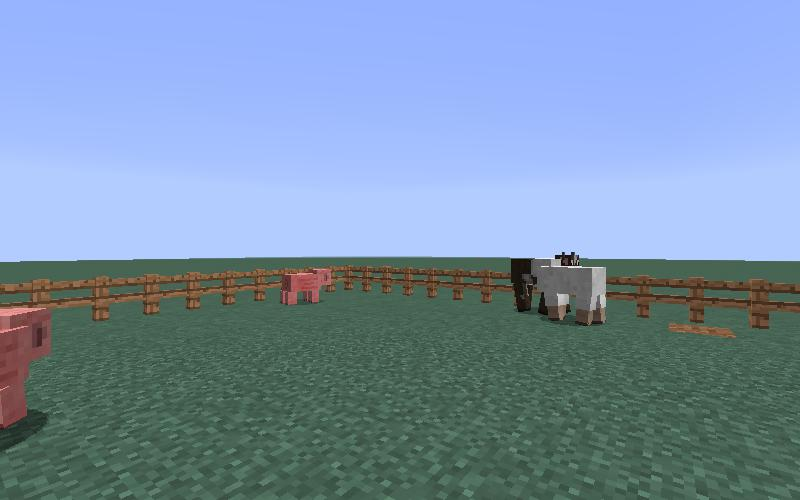pig: (279, 264, 332, 309)
sheep: (526, 256, 609, 330)
